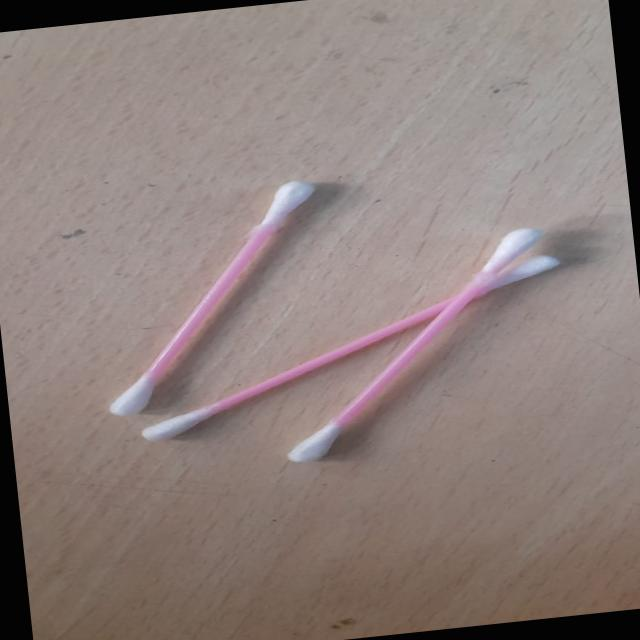Earbud - Non Recyclable: (82, 152, 582, 484)
